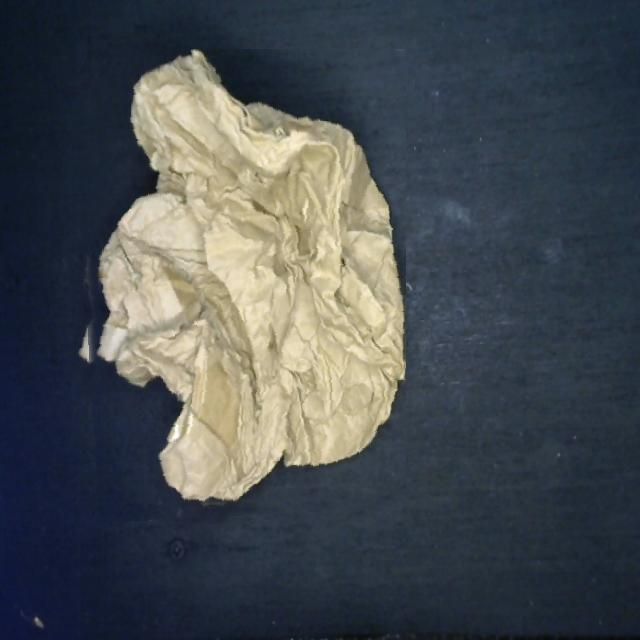biodegradable: (71, 49, 406, 523)
